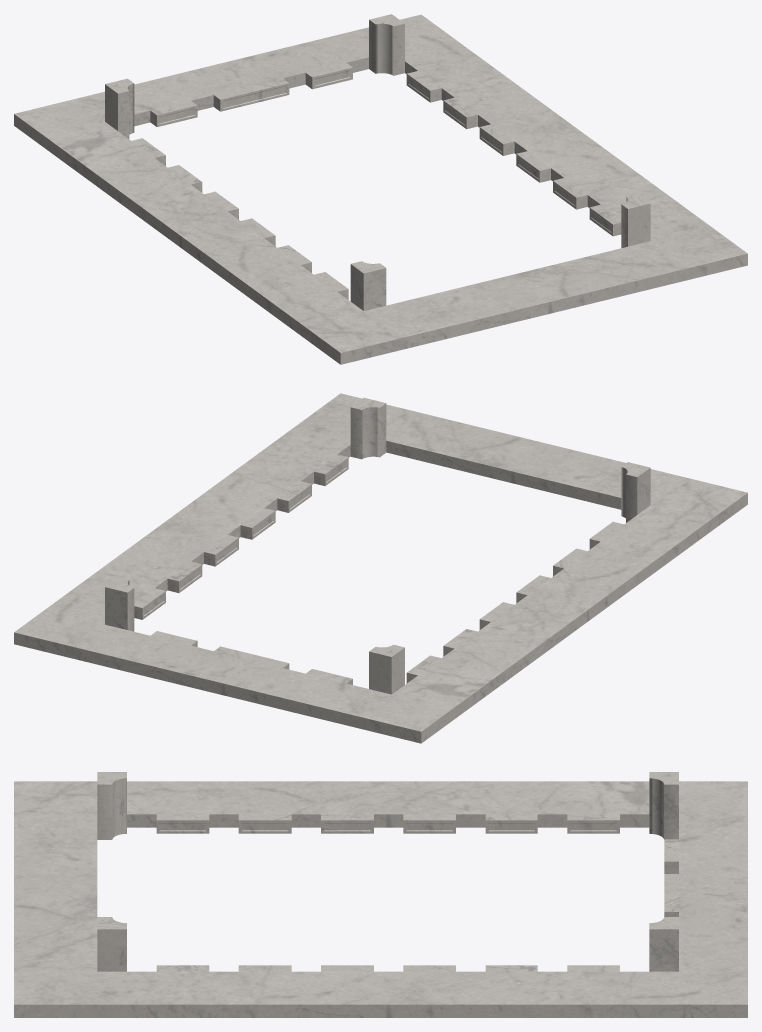
The model's file is floor4.fbx.
3 views of the same model, one above another, from view 1: azimuth 30°, elevation 25°; view 2: azimuth 150°, elevation 25°; view 3: azimuth 270°, elevation 25° (orthographic). The views are drawn at different scales.
Parts seen in each view (by area): view 1: floor4_re; view 2: floor4_re; view 3: floor4_re.
Boxes of the visible parts, left/top/right/bottom form: floor4_re: left=14, top=14, right=747, bottom=364; floor4_re: left=14, top=393, right=747, bottom=743; floor4_re: left=14, top=772, right=747, bottom=1017.
Size of the model in its own units: 85.97 by 9.97 by 119.
Materials: 1 (1 with a texture image).
